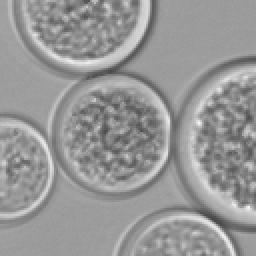picoshell: (48, 72, 172, 198), (171, 55, 256, 231), (8, 0, 154, 76), (113, 204, 239, 256), (0, 116, 54, 222)
